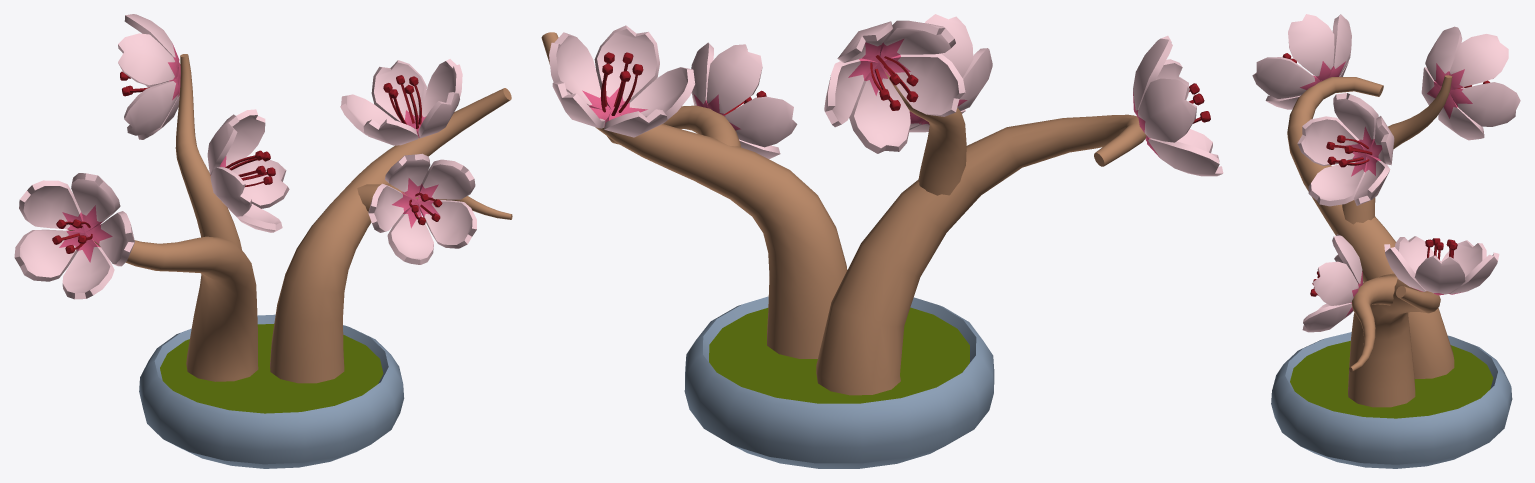
The model's file is sakuratree.glb.
The picture shows the model from 3 angles, left to right: view 1: azimuth 30°, elevation 25°; view 2: azimuth 150°, elevation 25°; view 3: azimuth 270°, elevation 25°; orthographic projection. The views are drawn at different scales.
Visible parts, largest first — view 1: Decoration_SakuraTree; view 2: Decoration_SakuraTree; view 3: Decoration_SakuraTree.
Boxes of the visible parts, x1,y1,x2,y2 form: Decoration_SakuraTree: (14,14,512,468); Decoration_SakuraTree: (541,14,1223,468); Decoration_SakuraTree: (1252,14,1520,468).
Bounding box in the file's own units: 4.72 × 3.39 × 2.25.
1 material, 1 textured.
